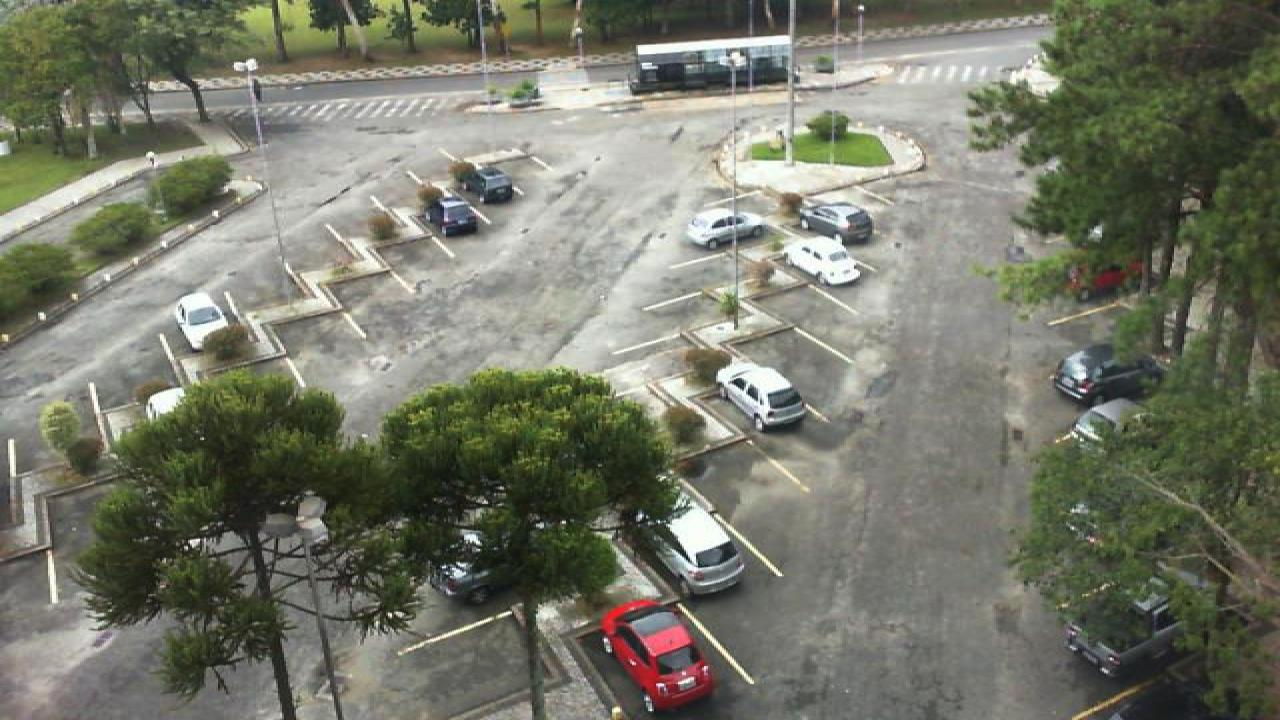Car: (596, 598, 720, 714), (1060, 579, 1190, 683), (638, 488, 748, 596), (1050, 341, 1162, 405), (710, 361, 808, 433), (1062, 397, 1152, 452), (780, 234, 866, 288), (426, 552, 502, 606), (682, 208, 770, 251), (794, 200, 876, 246), (174, 290, 234, 351), (458, 163, 522, 204), (1066, 261, 1134, 299), (420, 196, 482, 237), (144, 386, 192, 421)
